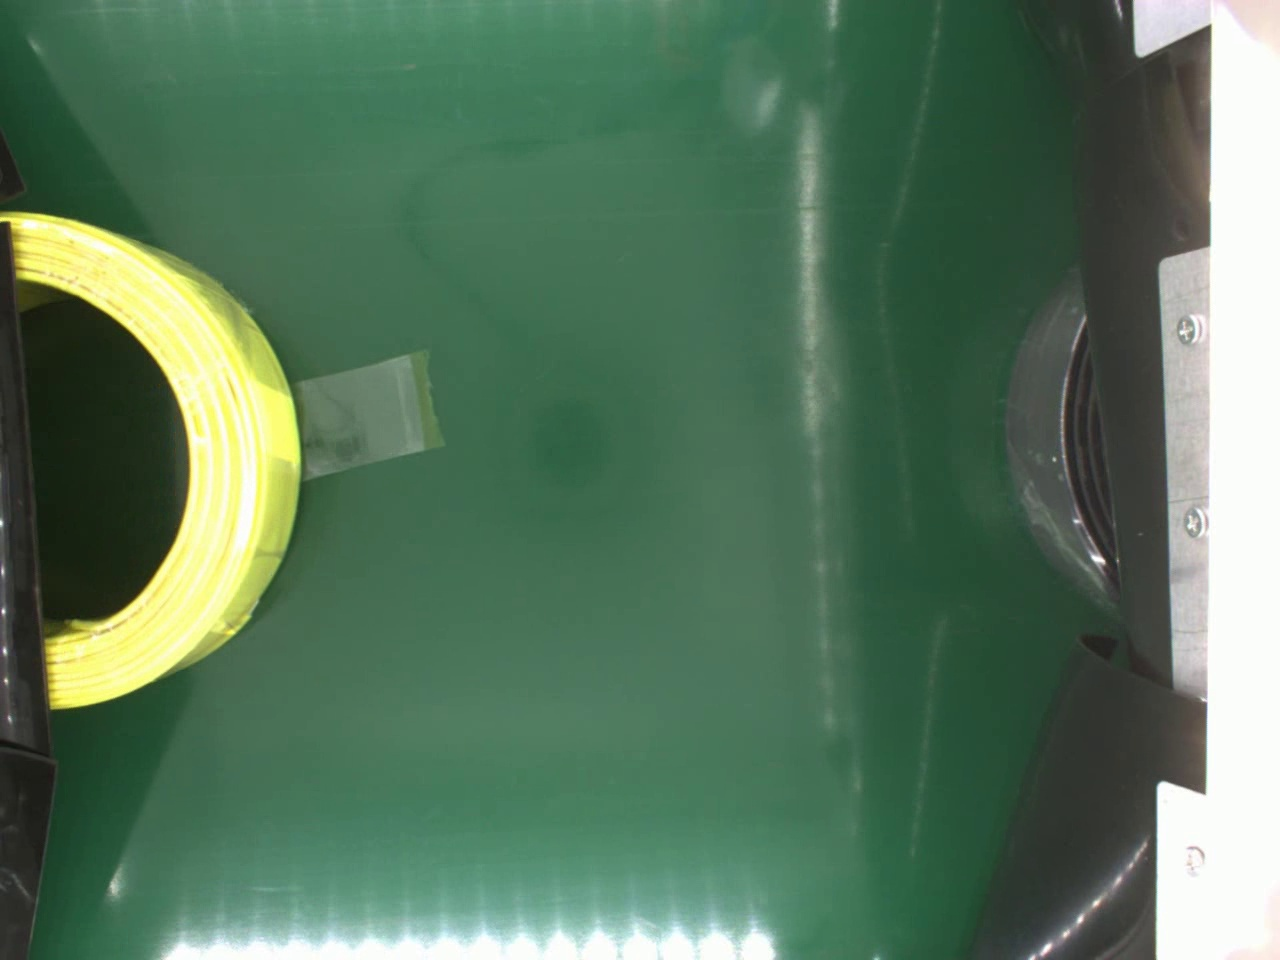black: (1006, 272, 1118, 606)
yellow: (0, 205, 305, 712)
